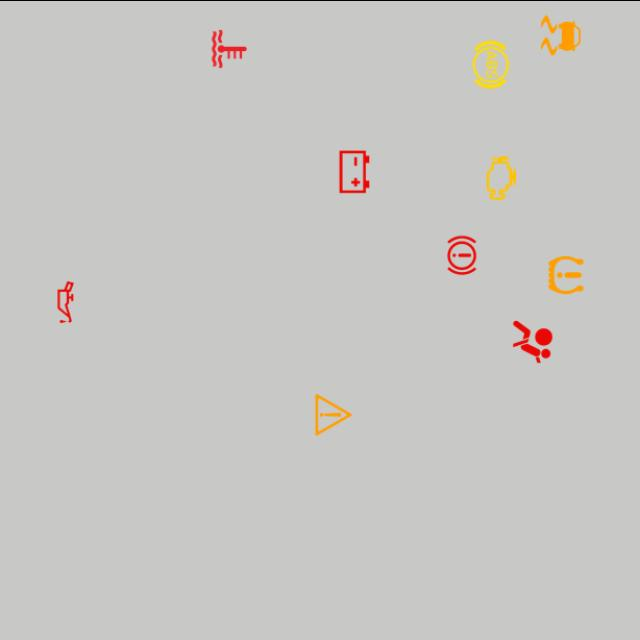Anti Lock Braking System: (465, 37, 517, 90)
Braking System Issue: (436, 228, 488, 280)
Charging System Issue: (328, 145, 381, 197)
Check Engine: (476, 151, 528, 203)
Electronic Stability Problem -ESP-: (535, 8, 587, 61)
Engine Overheating Warning Light: (203, 22, 256, 74)
Low Engine Oil Warning Light: (40, 275, 92, 327)
Low Tire Pressure Warning Light: (540, 248, 592, 300)
Master warning light: (308, 388, 360, 440)
SRS-Airbag: (506, 315, 558, 367)
